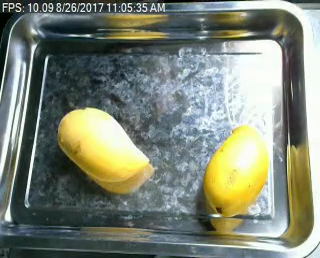Mango: (52, 105, 151, 188), (197, 117, 270, 223)
